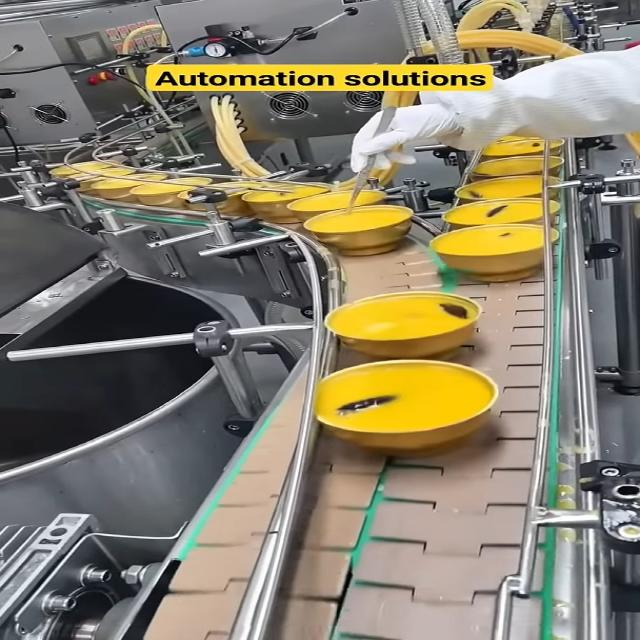cup: (287, 351, 525, 461), (318, 289, 491, 363), (421, 222, 576, 283), (302, 202, 418, 260), (433, 195, 574, 234), (448, 171, 578, 205), (238, 182, 332, 222), (178, 179, 275, 217), (126, 176, 222, 214), (84, 170, 174, 204), (286, 188, 390, 216), (454, 156, 569, 178)
